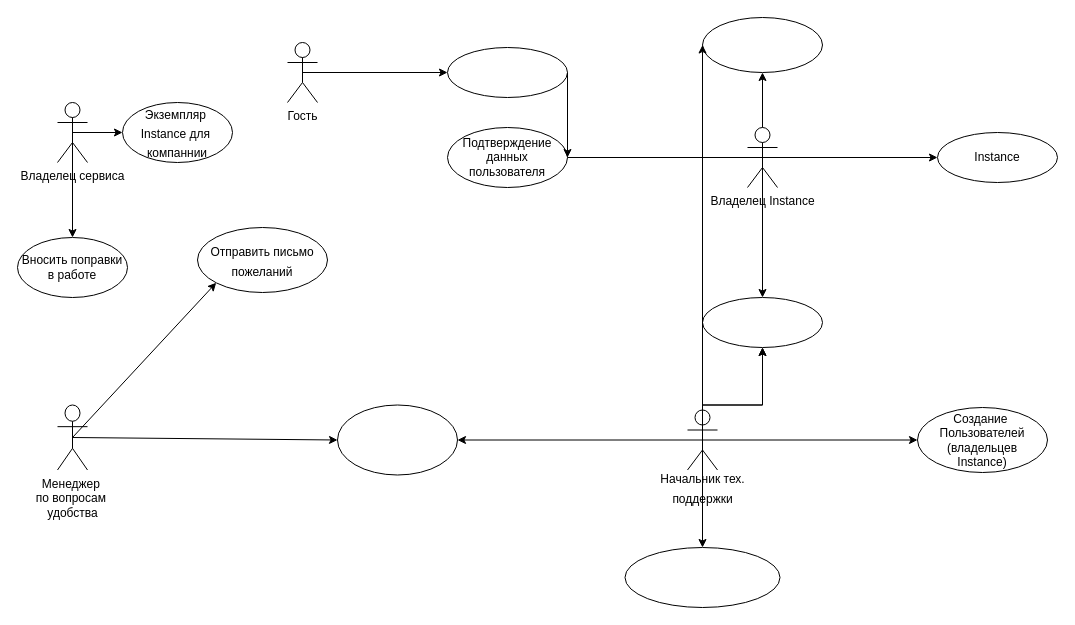
Some shapes in this 1075 by 625 pixel diagram are drawn without their labels. Here are the shapes that lost their labels. From the top down, the centre of each, then its label:
At point 762,44: "Получить отчёт".
At point 507,72: "Регистрация пользователя".
At point 762,322: "Скачать агента".
At point 397,439: "Получить особый account для управления".
At point 702,577: "Получать полный отчёт о работоспособности".
